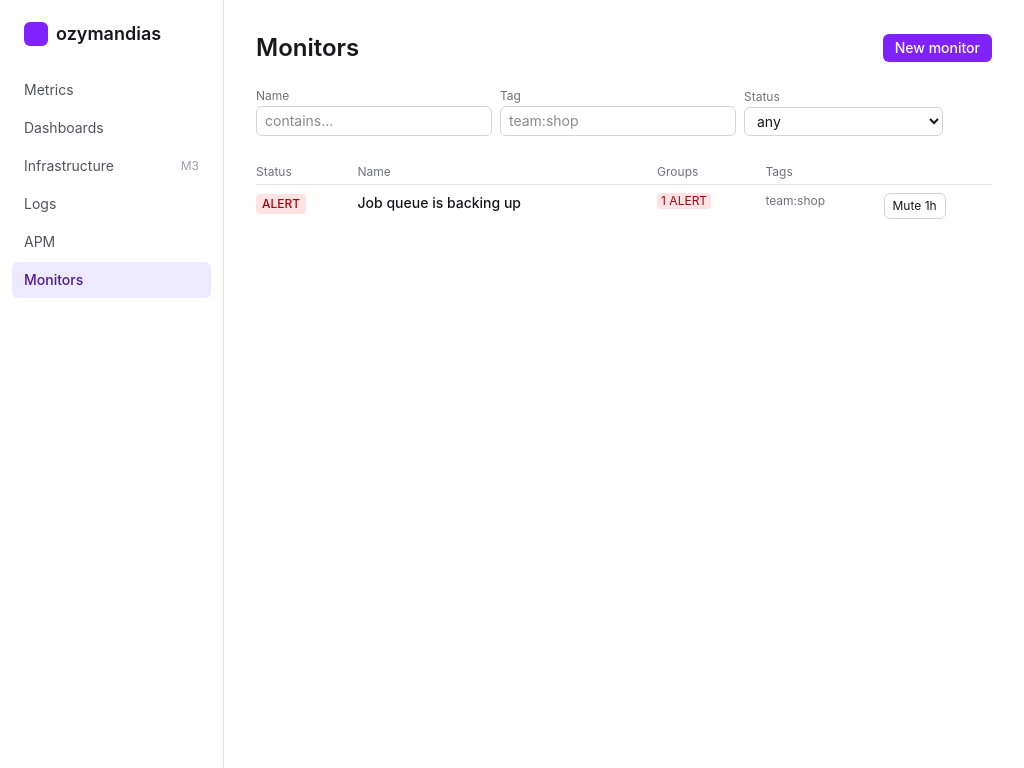
Scenario: MonitorsIndex › mutes for an hour and unmutes
Click the button "Mute 1h" at point(915, 206), box [884,193,946,219]
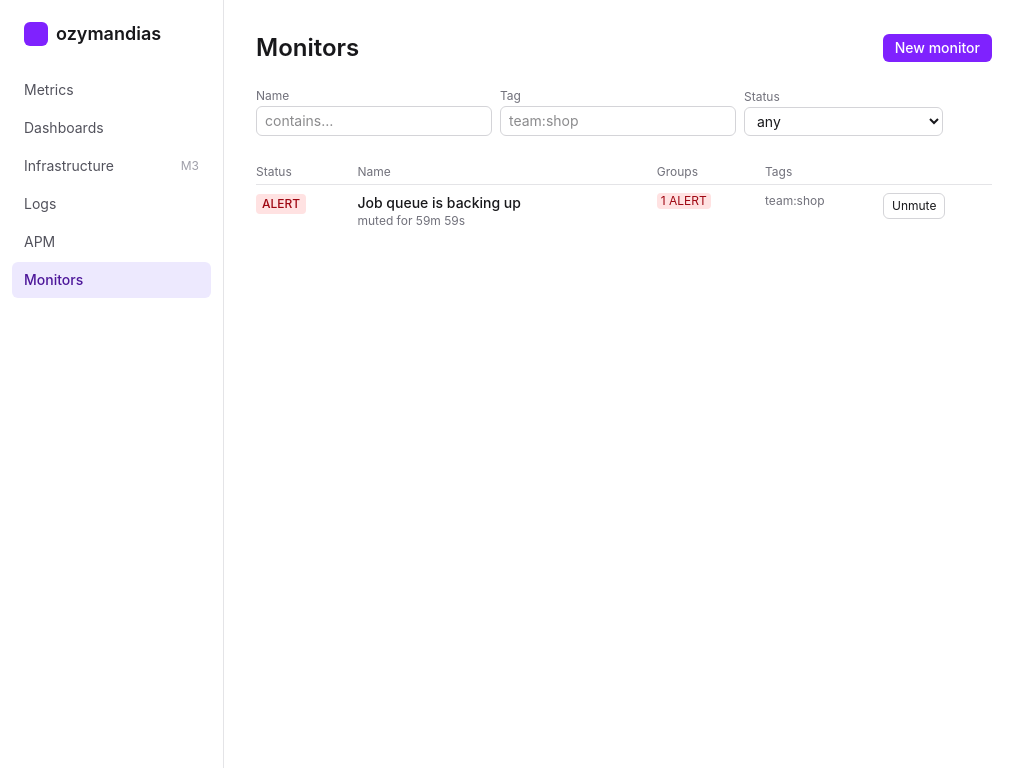
Click the button "Unmute" at point(914, 206), box [883,193,945,219]
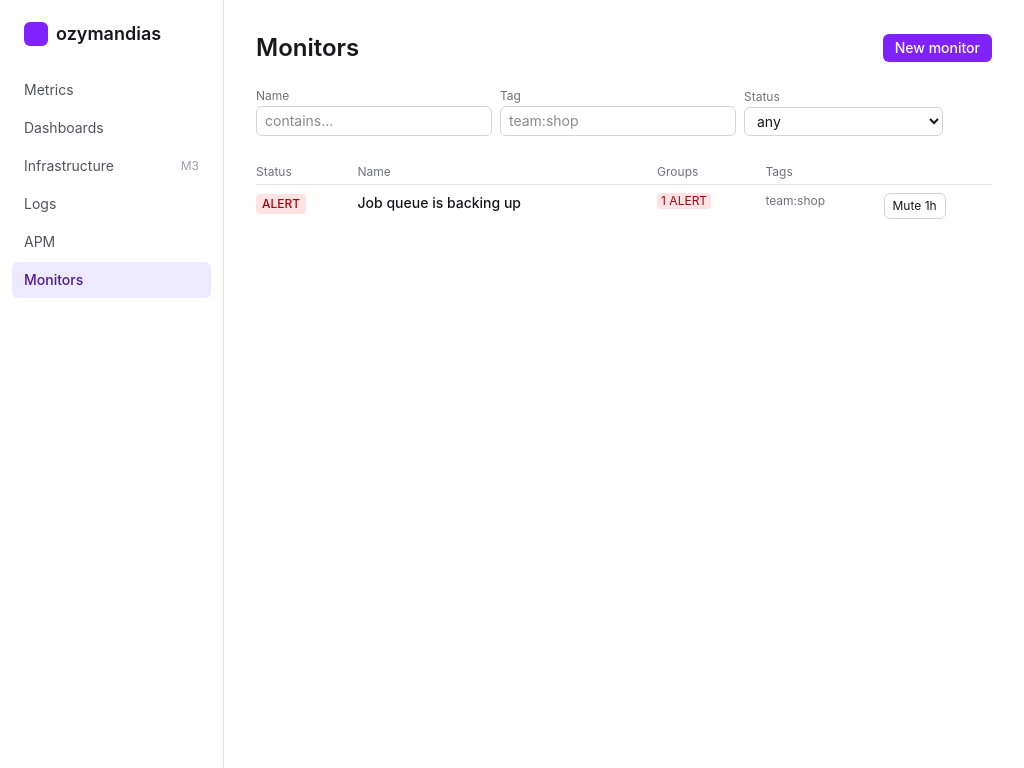
Result: the button "Mute 1h" is shown at [884,193,946,219]
